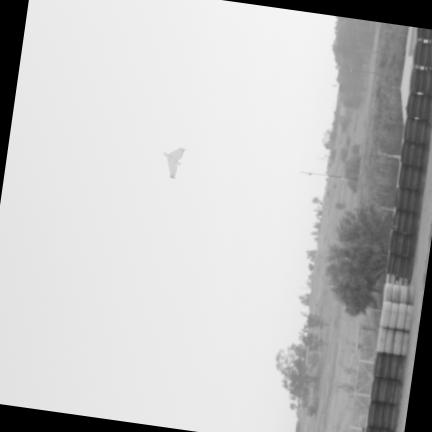Shahed: (162, 145, 187, 178)
